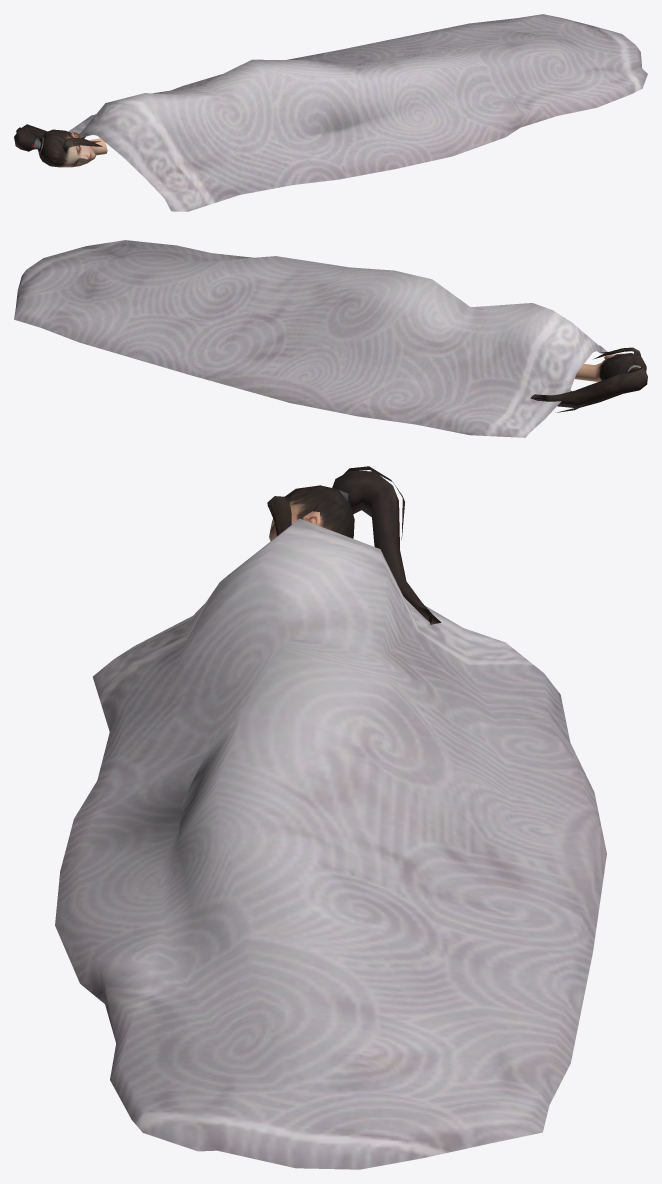
Rendered from chuang01_biaonv_55_46_9921out.fbx.
The picture shows the model from 3 angles, top to bottom: view 1: azimuth 30°, elevation 25°; view 2: azimuth 150°, elevation 25°; view 3: azimuth 270°, elevation 25°; orthographic projection. The views are drawn at different scales.
Visible parts, largest first — view 1: chuang01_juese; view 2: chuang01_juese; view 3: chuang01_juese.
Part boxes in pixels (<box>): chuang01_juese: <box>14,14,647,211</box>; chuang01_juese: <box>14,240,647,437</box>; chuang01_juese: <box>55,466,606,1169</box>.
Bounding box in the file's own units: 2.59 × 0.3052 × 1.02.
